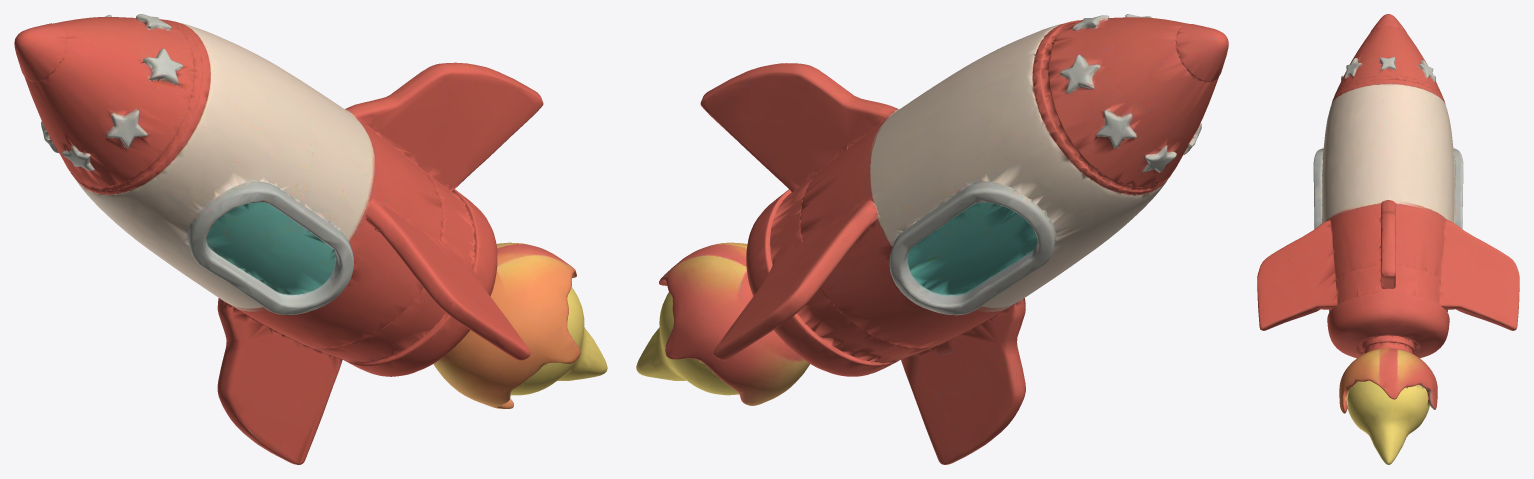
3 renders of one model, left to right at view 1: azimuth 30°, elevation 25°; view 2: azimuth 150°, elevation 25°; view 3: azimuth 270°, elevation 25°, orthographic. The views are drawn at different scales.
Bounding box in the file's own units: 1.9 × 1.53 × 1.24.
Materials: 1 (1 with a texture image).
